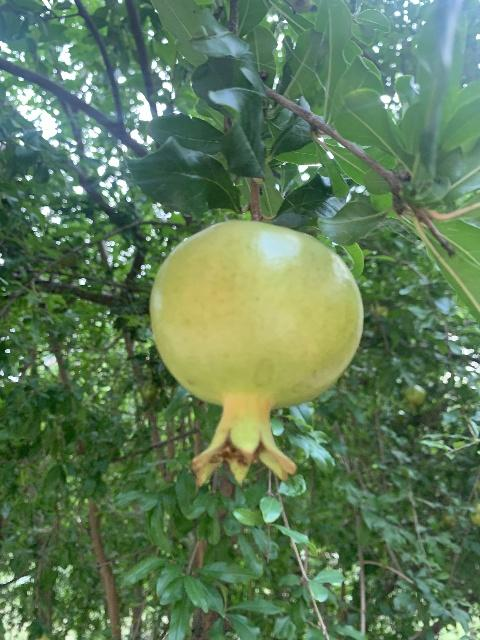mid-growth: (149, 219, 363, 491), (405, 384, 426, 409)
